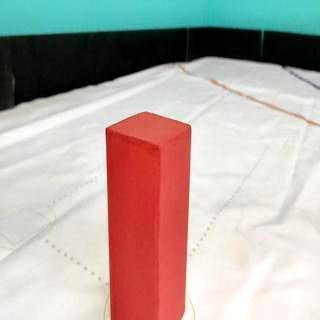redbox: (104, 109, 192, 320)
